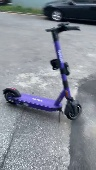beam: (3, 21, 82, 122)
